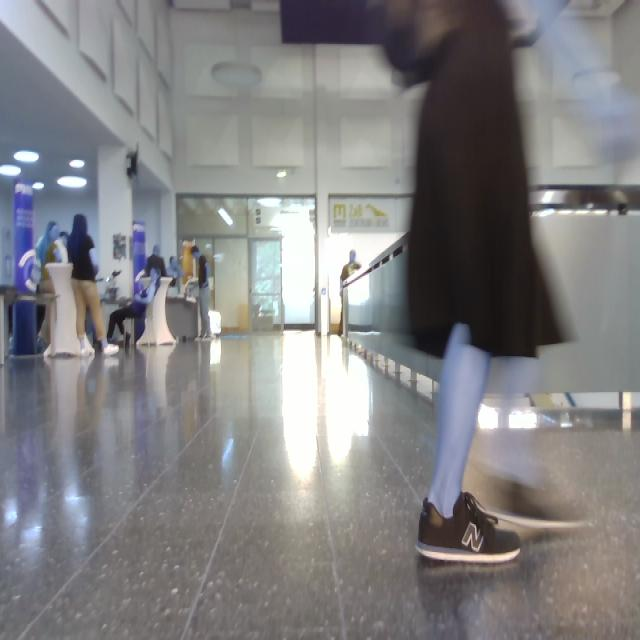door: (327, 196, 414, 332)
light bulb: (212, 63, 262, 87), (480, 406, 500, 430), (57, 176, 87, 189), (15, 151, 40, 164), (219, 208, 234, 227), (1, 167, 22, 177), (70, 159, 86, 169), (34, 183, 44, 191)
person: (385, 3, 562, 564), (69, 216, 120, 355), (111, 269, 161, 345), (194, 246, 211, 339), (342, 251, 362, 299), (340, 308, 343, 335)
staircase: (489, 188, 640, 409), (345, 236, 442, 390)
tiled floor: (1, 333, 640, 639)
